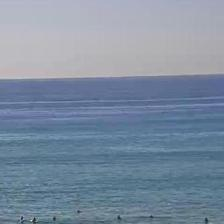surfer: (203, 217, 210, 223), (31, 216, 37, 223), (116, 215, 123, 220), (52, 216, 57, 222), (20, 216, 25, 222), (76, 210, 82, 214), (149, 215, 154, 219), (0, 216, 1, 222)
